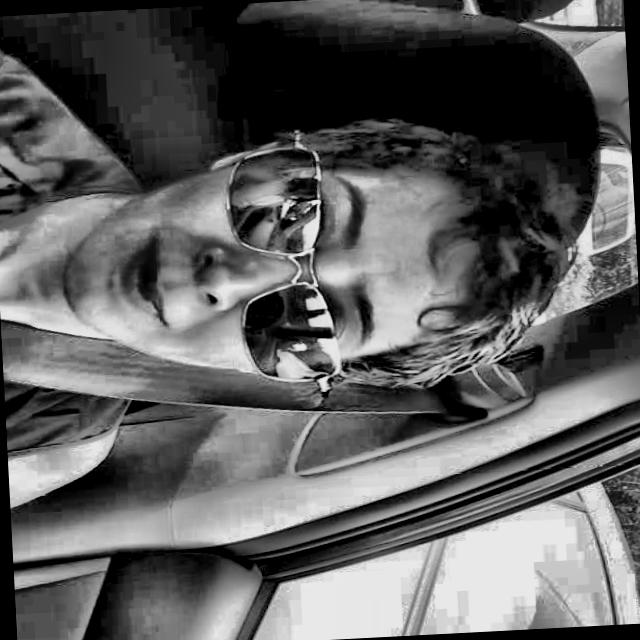closed_mouth: (82, 217, 192, 350)
